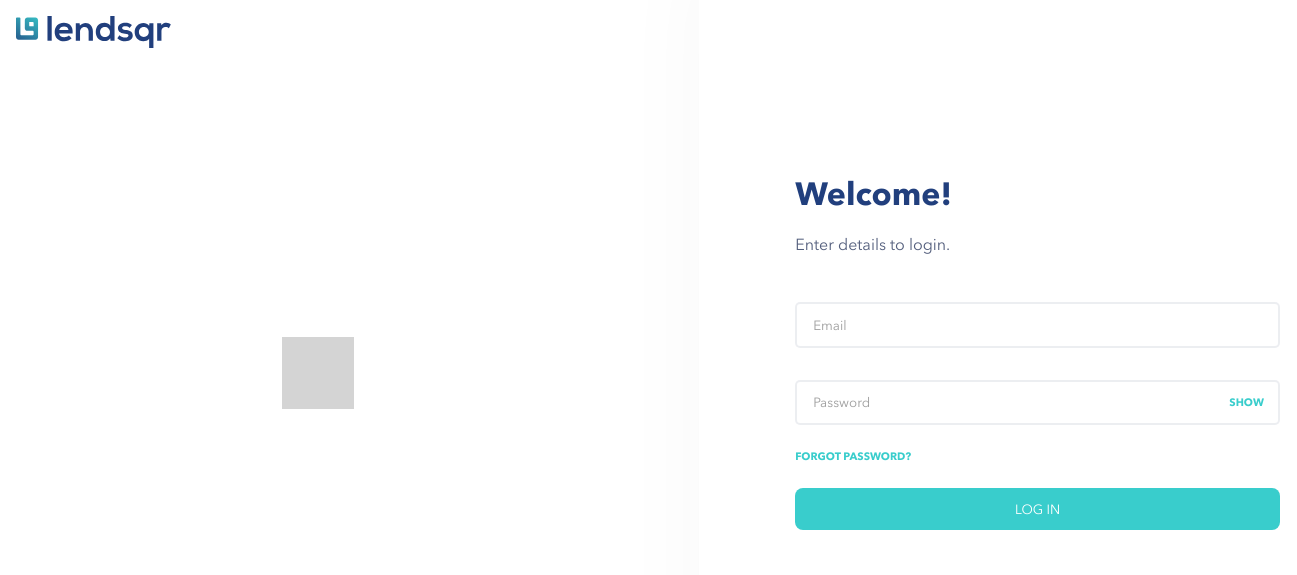
Test: shows error message on invalid password input
Type "obodedaniel3@gmail.com" into the field with placeholder "Email" at (1038, 325), box [795,302,1280,348]
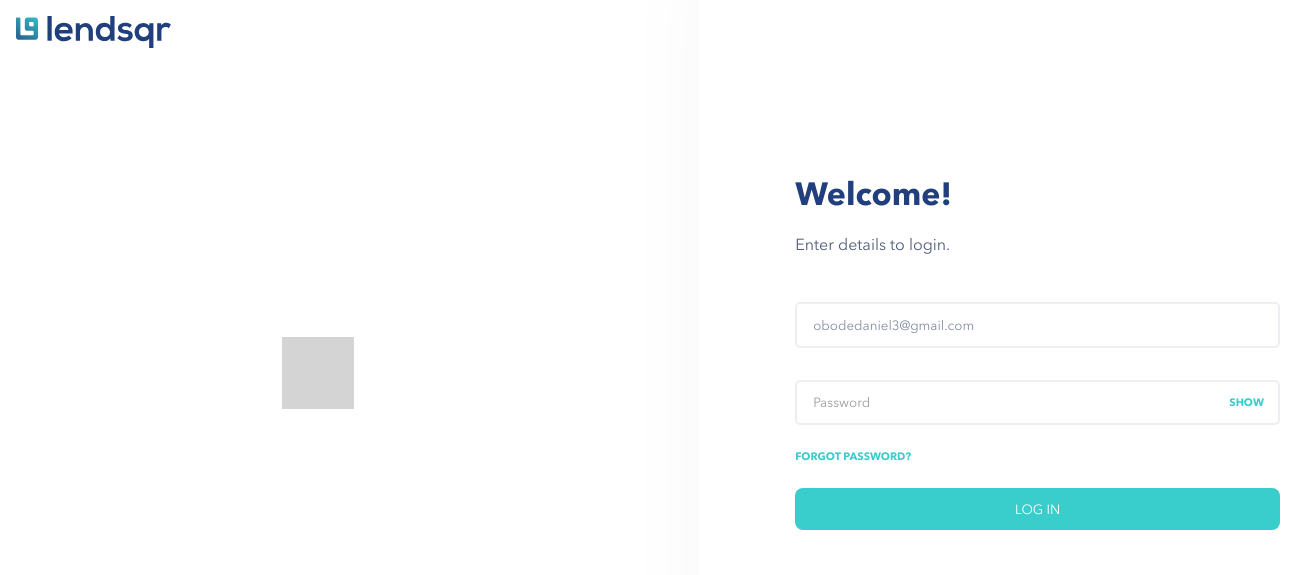
Type "wrong" into the password field with placeholder "Password" at (1038, 402), box [795,380,1280,425]
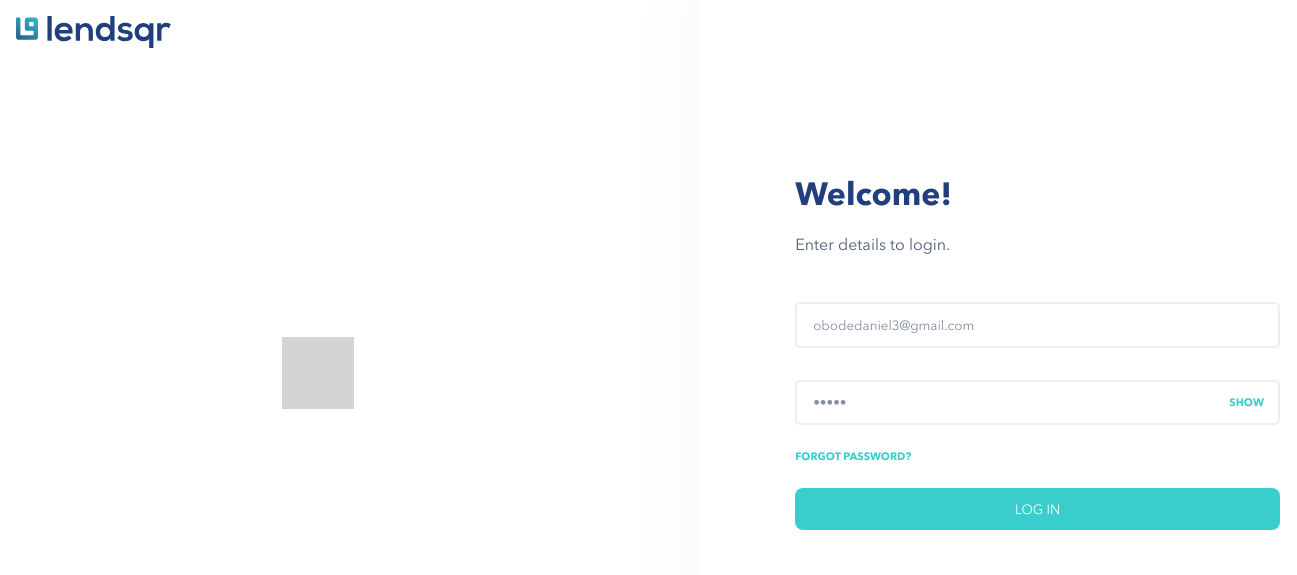
Click the button "LOG IN" at (1038, 509), box [795,488,1280,530]
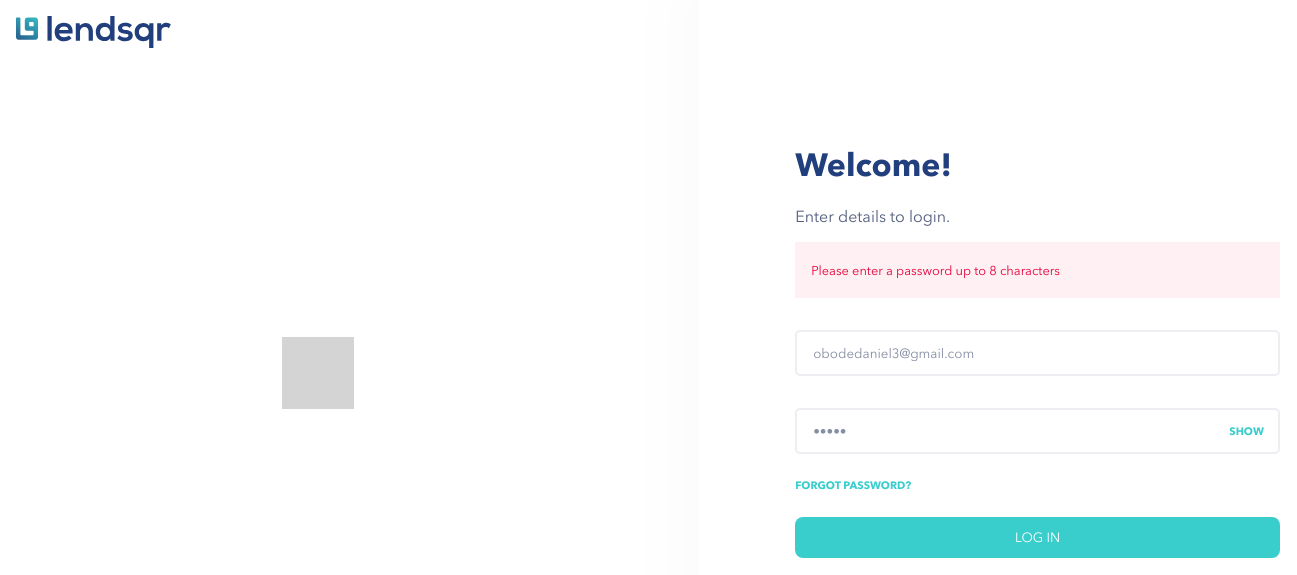
Expected: the text "Please enter a password up to 8 characters" is shown, [811,263,1060,278]
